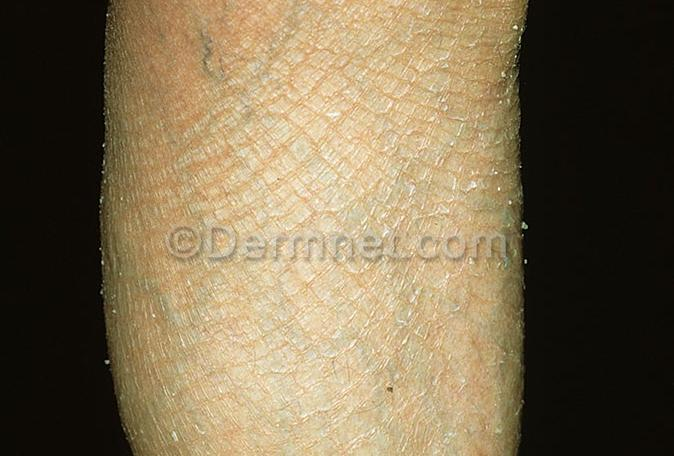liquenificacion 1: (112, 0, 529, 456)
xerosis 1: (499, 0, 532, 456), (101, 0, 132, 394)
